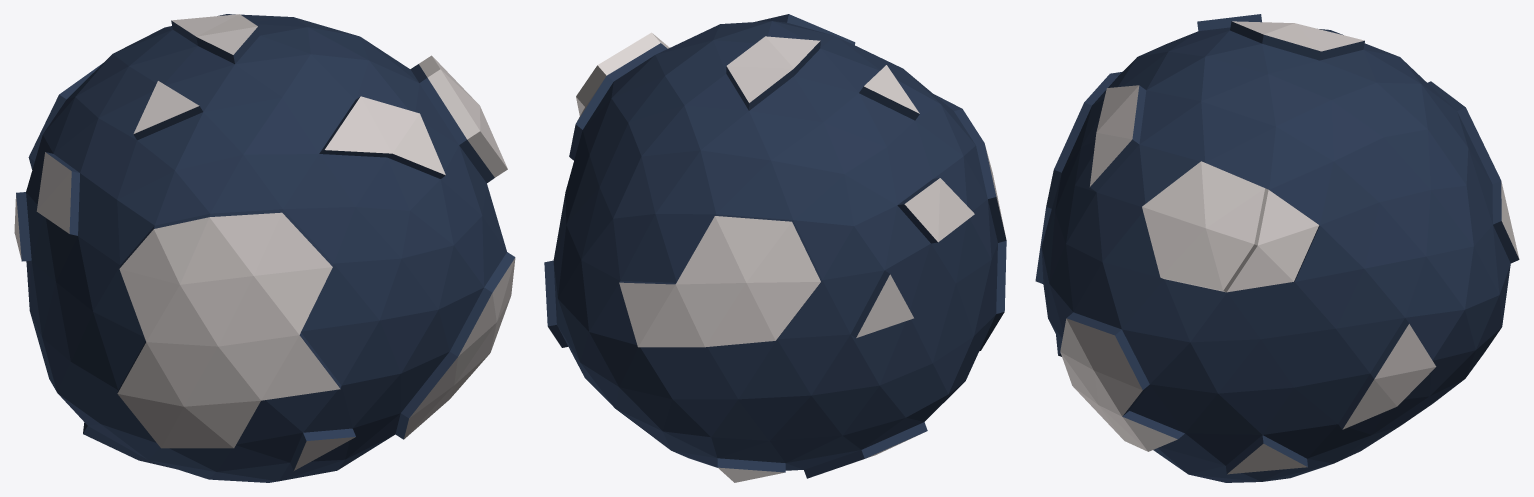
Rendered from planet07.fbx.
3 renders of one model, left to right at view 1: azimuth 30°, elevation 25°; view 2: azimuth 150°, elevation 25°; view 3: azimuth 270°, elevation 25°, orthographic. The views are drawn at different scales.
Parts seen in each view (by area): view 1: Icosphere; view 2: Icosphere; view 3: Icosphere.
Part boxes in pixels (x1,y1,x2,y2): Icosphere: (14,14,515,482); Icosphere: (544,14,1006,482); Icosphere: (1035,14,1519,482).
Bounding box in the file's own units: 6.59 × 6.79 × 6.69.
